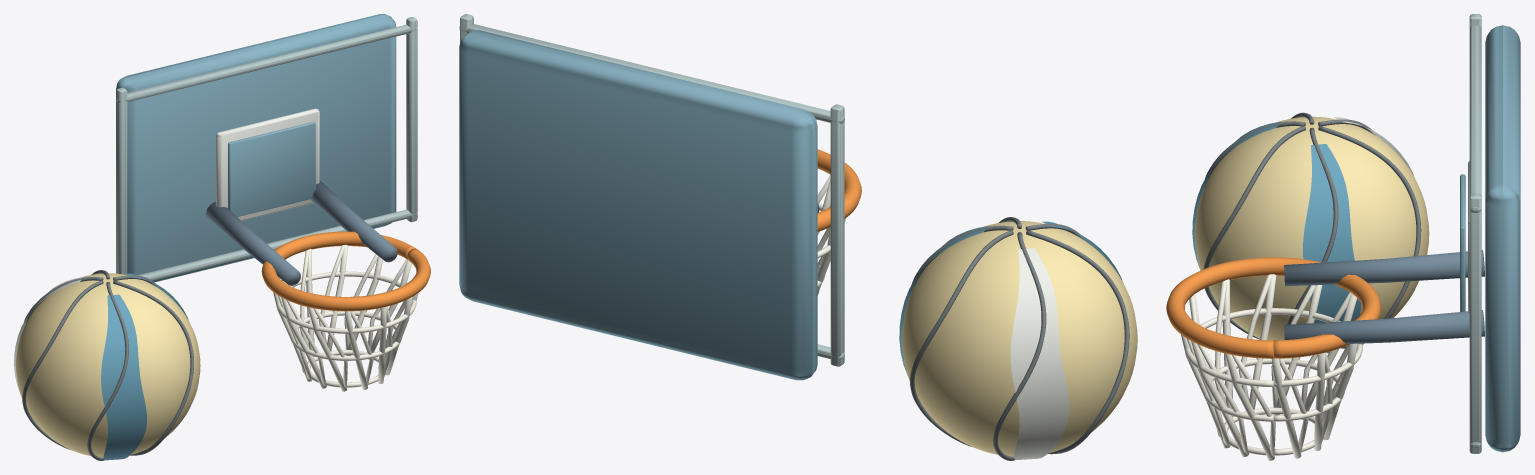
The model's file is P05_Volleyball_Basketball_Hoop.glb.
The picture shows the model from 3 angles, left to right: view 1: azimuth 30°, elevation 25°; view 2: azimuth 150°, elevation 25°; view 3: azimuth 270°, elevation 25°; orthographic projection. The views are drawn at different scales.
Parts seen in each view (by area): view 1: P05_HOOP_ACTOR | Outdoor basketball acrylic board deep blue, P05 real volleyball round stitched leather, P05_HOOP_ACTOR | Authentic hanging braided basketball net, P05_HOOP_ACTOR | Brushed galvanized school basketball frame, P05_VOLLEYBALL_ACTOR | Volleyball curved peacock-blue panels, P05 genuine heavy rolled orange basketball rim, P05_HOOP_ACTOR | Hoop reinforcement weathered blue, P05_VOLLEYBALL_ACTOR | Physical volleyball raised seam threa, P05 bright basketball target rectangle; view 2: P05_HOOP_ACTOR | Outdoor basketball acrylic board deep blue, P05 real volleyball round stitched leather, P05 sewn bright alternate volleyball panel.001, P05_HOOP_ACTOR | Brushed galvanized school basketball frame, P05_VOLLEYBALL_ACTOR | Physical volleyball raised seam threa, P05 genuine heavy rolled orange basketball rim, P05_HOOP_ACTOR | Authentic hanging braided basketball net, P05_VOLLEYBALL_ACTOR | Volleyball curved peacock-blue panels; view 3: P05 real volleyball round stitched leather, P05_HOOP_ACTOR | Outdoor basketball acrylic board deep blue, P05_HOOP_ACTOR | Authentic hanging braided basketball net, P05_HOOP_ACTOR | Hoop reinforcement weathered blue, P05 genuine heavy rolled orange basketball rim, P05_HOOP_ACTOR | Brushed galvanized school basketball frame, P05_VOLLEYBALL_ACTOR | Volleyball curved peacock-blue panels, P05_VOLLEYBALL_ACTOR | Physical volleyball raised seam threa.
Boxes of the visible parts, x1,y1,x2,y2 form: P05_HOOP_ACTOR | Outdoor basketball acrylic board deep blue: (116, 14, 396, 282); P05 real volleyball round stitched leather: (16, 273, 200, 457); P05_HOOP_ACTOR | Authentic hanging braided basketball net: (273, 244, 418, 391); P05_HOOP_ACTOR | Brushed galvanized school basketball frame: (116, 17, 417, 280); P05_VOLLEYBALL_ACTOR | Volleyball curved peacock-blue panels: (101, 273, 188, 460); P05 genuine heavy rolled orange basketball rim: (261, 231, 430, 311); P05_HOOP_ACTOR | Hoop reinforcement weathered blue: (206, 180, 397, 285); P05_VOLLEYBALL_ACTOR | Physical volleyball raised seam threa: (22, 270, 193, 460); P05 bright basketball target rectangle: (216, 108, 319, 220); P05_HOOP_ACTOR | Outdoor basketball acrylic board deep blue: (459, 30, 817, 380); P05 real volleyball round stitched leather: (901, 221, 1137, 456); P05 sewn bright alternate volleyball panel.001: (1010, 248, 1069, 459); P05_HOOP_ACTOR | Brushed galvanized school basketball frame: (459, 14, 844, 366); P05_VOLLEYBALL_ACTOR | Physical volleyball raised seam threa: (910, 217, 1129, 460); P05 genuine heavy rolled orange basketball rim: (817, 149, 861, 231); P05_HOOP_ACTOR | Authentic hanging braided basketball net: (817, 175, 845, 295); P05_VOLLEYBALL_ACTOR | Volleyball curved peacock-blue panels: (899, 221, 1122, 375); P05 real volleyball round stitched leather: (1194, 116, 1429, 340); P05_HOOP_ACTOR | Outdoor basketball acrylic board deep blue: (1460, 25, 1520, 452); P05_HOOP_ACTOR | Authentic hanging braided basketball net: (1181, 274, 1363, 460); P05_HOOP_ACTOR | Hoop reinforcement weathered blue: (1284, 250, 1484, 343); P05 genuine heavy rolled orange basketball rim: (1166, 257, 1381, 358); P05_HOOP_ACTOR | Brushed galvanized school basketball frame: (1469, 14, 1481, 453); P05_VOLLEYBALL_ACTOR | Volleyball curved peacock-blue panels: (1192, 122, 1361, 353); P05_VOLLEYBALL_ACTOR | Physical volleyball raised seam threa: (1203, 112, 1421, 348).
Bounding box in the file's own units: 2.45 × 1.52 × 1.3.
